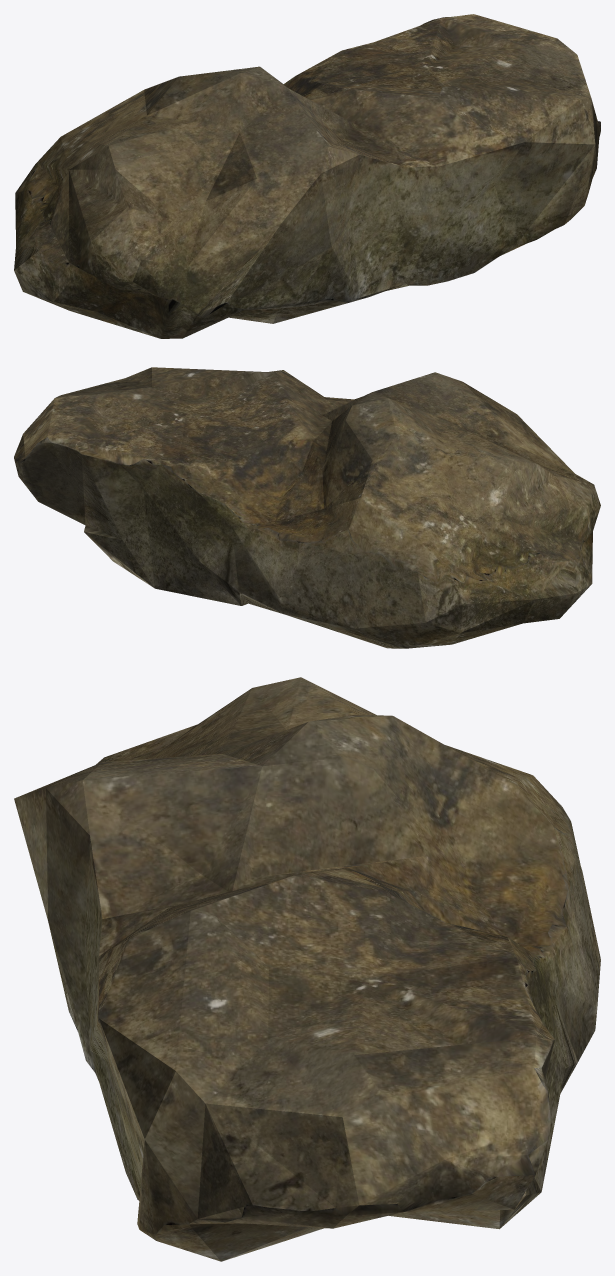
Rendered from Rock 1.fbx.
The picture shows the model from 3 angles, top to bottom: view 1: azimuth 30°, elevation 25°; view 2: azimuth 150°, elevation 25°; view 3: azimuth 270°, elevation 25°; orthographic projection. The views are drawn at different scales.
Parts seen in each view (by area): view 1: Rock_1; view 2: Rock_1; view 3: Rock_1.
Boxes of the visible parts, left/top/right/bottom form: Rock_1: left=14, top=14, right=600, bottom=338; Rock_1: left=14, top=367, right=600, bottom=648; Rock_1: left=14, top=677, right=600, bottom=1261.
Size of the model in its own units: 100 by 39.94 by 54.27.
1 material, 1 textured.
